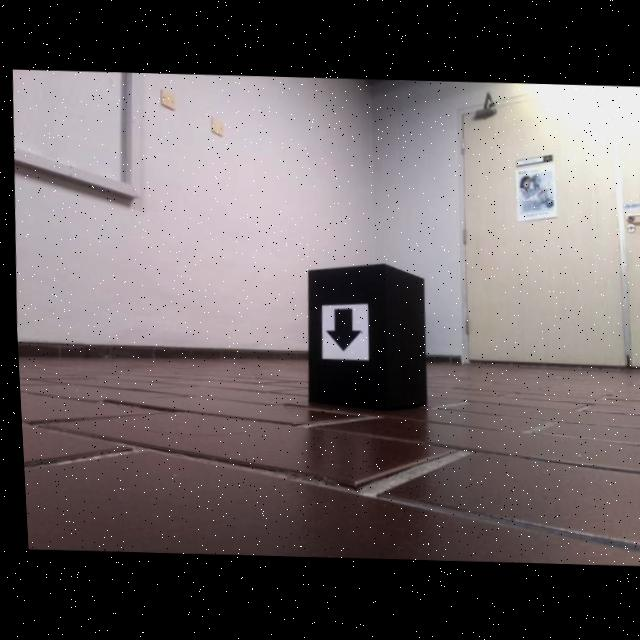DOWN: (322, 310, 357, 353)
